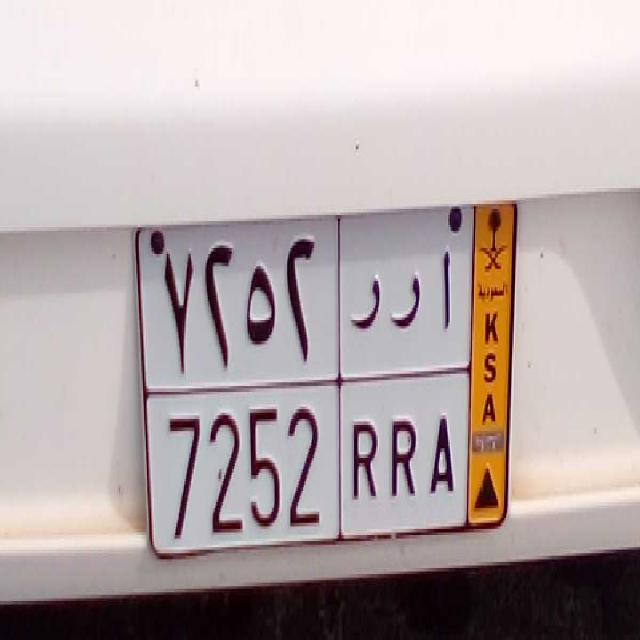license_plate: (141, 384, 471, 552)
